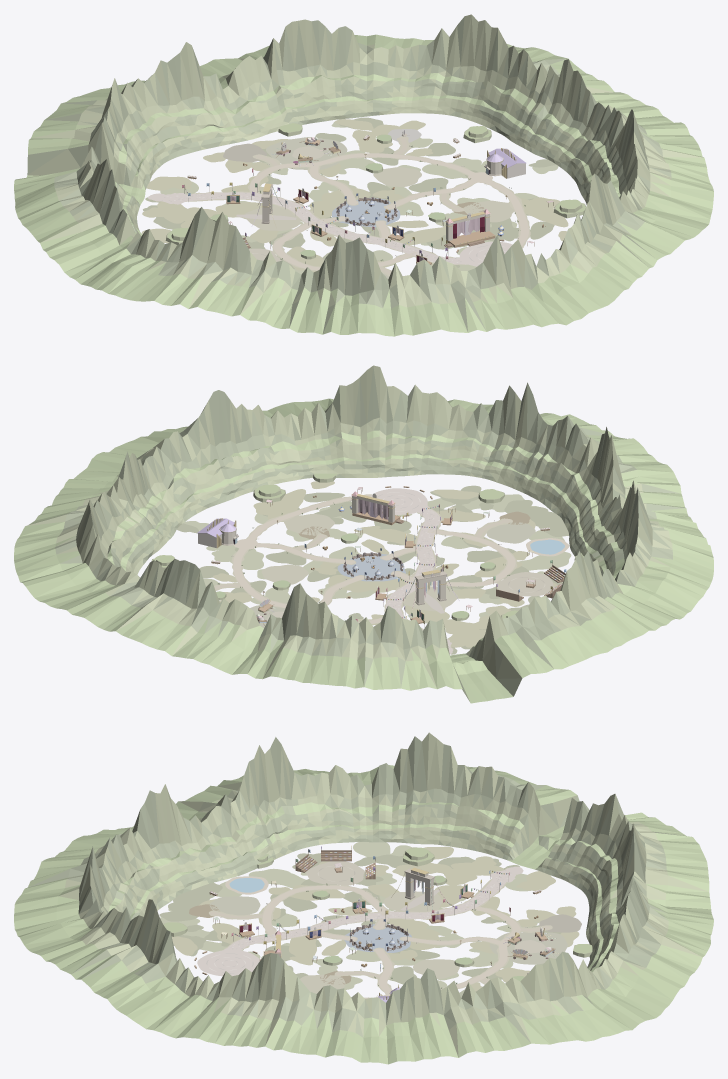
The model's file is map_field_parade.glb.
3 views of the same model, one above another, from view 1: azimuth 30°, elevation 25°; view 2: azimuth 150°, elevation 25°; view 3: azimuth 270°, elevation 25° (orthographic).
Parts seen in each view (by area): view 1: Z_field_parade_penhascos, Z_field_parade_estrada_avenida, Z_field_parade_det_chao_1_-2, Z_field_parade_det_chao_-1_-1, Z_field_parade_det_chao_1_-1, Z_field_parade_det_chao_-3_-2, Z_field_parade_chao_feira_1, Z_field_parade_det_chao_1_-3, Z_field_parade_det_chao_1_1, Z_field_parade_det_chao_0_-1, Z_field_parade_chao_posto, Z_field_parade_det_chao_-2_-1 (+18 smaller); view 2: Z_field_parade_penhascos, Z_field_parade_estrada_avenida, Z_field_parade_det_chao_-2_1, Z_field_parade_det_chao_-1_2, Z_field_parade_det_chao_1_-2, Z_field_parade_det_chao_-1_-1, Z_field_parade_det_chao_1_-1, Z_field_parade_det_chao_1_1, Z_field_parade_det_chao_0_-1, Z_field_parade_chao_pista, Z_field_parade_det_chao_-2_2, Z_field_parade_chao_posto (+19 smaller); view 3: Z_field_parade_penhascos, Z_field_parade_estrada_avenida, Z_field_parade_det_chao_-1_-1, Z_field_parade_det_chao_-2_1, Z_field_parade_det_chao_-3_-2, Z_field_parade_praca_palco, Z_field_parade_det_chao_-1_2, Z_field_parade_det_chao_-3_-1, Z_field_parade_chao_feira_1, Z_field_parade_chao_pista, Z_field_parade_det_chao_0_-1, Z_field_parade_det_chao_-2_2 (+22 smaller).
Boxes of the visible parts, x1,y1,x2,y2 form: Z_field_parade_penhascos: [14, 14, 713, 336]; Z_field_parade_estrada_avenida: [156, 192, 465, 264]; Z_field_parade_det_chao_1_-2: [316, 136, 474, 175]; Z_field_parade_det_chao_-1_-1: [156, 189, 465, 264]; Z_field_parade_det_chao_1_-1: [387, 161, 485, 207]; Z_field_parade_det_chao_-3_-2: [142, 195, 220, 229]; Z_field_parade_chao_feira_1: [266, 137, 347, 169]; Z_field_parade_det_chao_1_-3: [331, 117, 425, 144]; Z_field_parade_det_chao_1_1: [471, 180, 554, 247]; Z_field_parade_det_chao_0_-1: [317, 180, 411, 206]; Z_field_parade_chao_posto: [332, 198, 400, 227]; Z_field_parade_det_chao_-2_-1: [215, 202, 302, 243]; Z_field_parade_penhascos: [14, 365, 713, 703]; Z_field_parade_estrada_avenida: [386, 507, 451, 649]; Z_field_parade_det_chao_-2_1: [427, 529, 568, 587]; Z_field_parade_det_chao_-1_2: [437, 494, 532, 522]; Z_field_parade_det_chao_1_-2: [199, 548, 286, 608]; Z_field_parade_det_chao_-1_-1: [346, 507, 453, 649]; Z_field_parade_det_chao_1_-1: [220, 543, 351, 579]; Z_field_parade_det_chao_1_1: [246, 492, 376, 540]; Z_field_parade_det_chao_0_-1: [303, 558, 367, 598]; Z_field_parade_chao_pista: [496, 572, 554, 596]; Z_field_parade_det_chao_-2_2: [518, 506, 568, 540]; Z_field_parade_chao_posto: [337, 553, 405, 581]; Z_field_parade_penhascos: [14, 732, 713, 1064]; Z_field_parade_estrada_avenida: [225, 868, 519, 950]; Z_field_parade_det_chao_-1_-1: [224, 867, 516, 949]; Z_field_parade_det_chao_-2_1: [254, 871, 389, 934]; Z_field_parade_det_chao_-3_-2: [438, 856, 519, 885]; Z_field_parade_praca_palco: [197, 949, 259, 976]; Z_field_parade_det_chao_-1_2: [159, 909, 246, 943]; Z_field_parade_det_chao_-3_-1: [374, 845, 453, 876]; Z_field_parade_chao_feira_1: [489, 932, 567, 964]; Z_field_parade_chao_pista: [306, 861, 364, 885]; Z_field_parade_det_chao_0_-1: [375, 933, 463, 965]; Z_field_parade_det_chao_-2_2: [168, 881, 241, 913].
Bounding box in the file's own units: 361 × 55.87 × 362.
